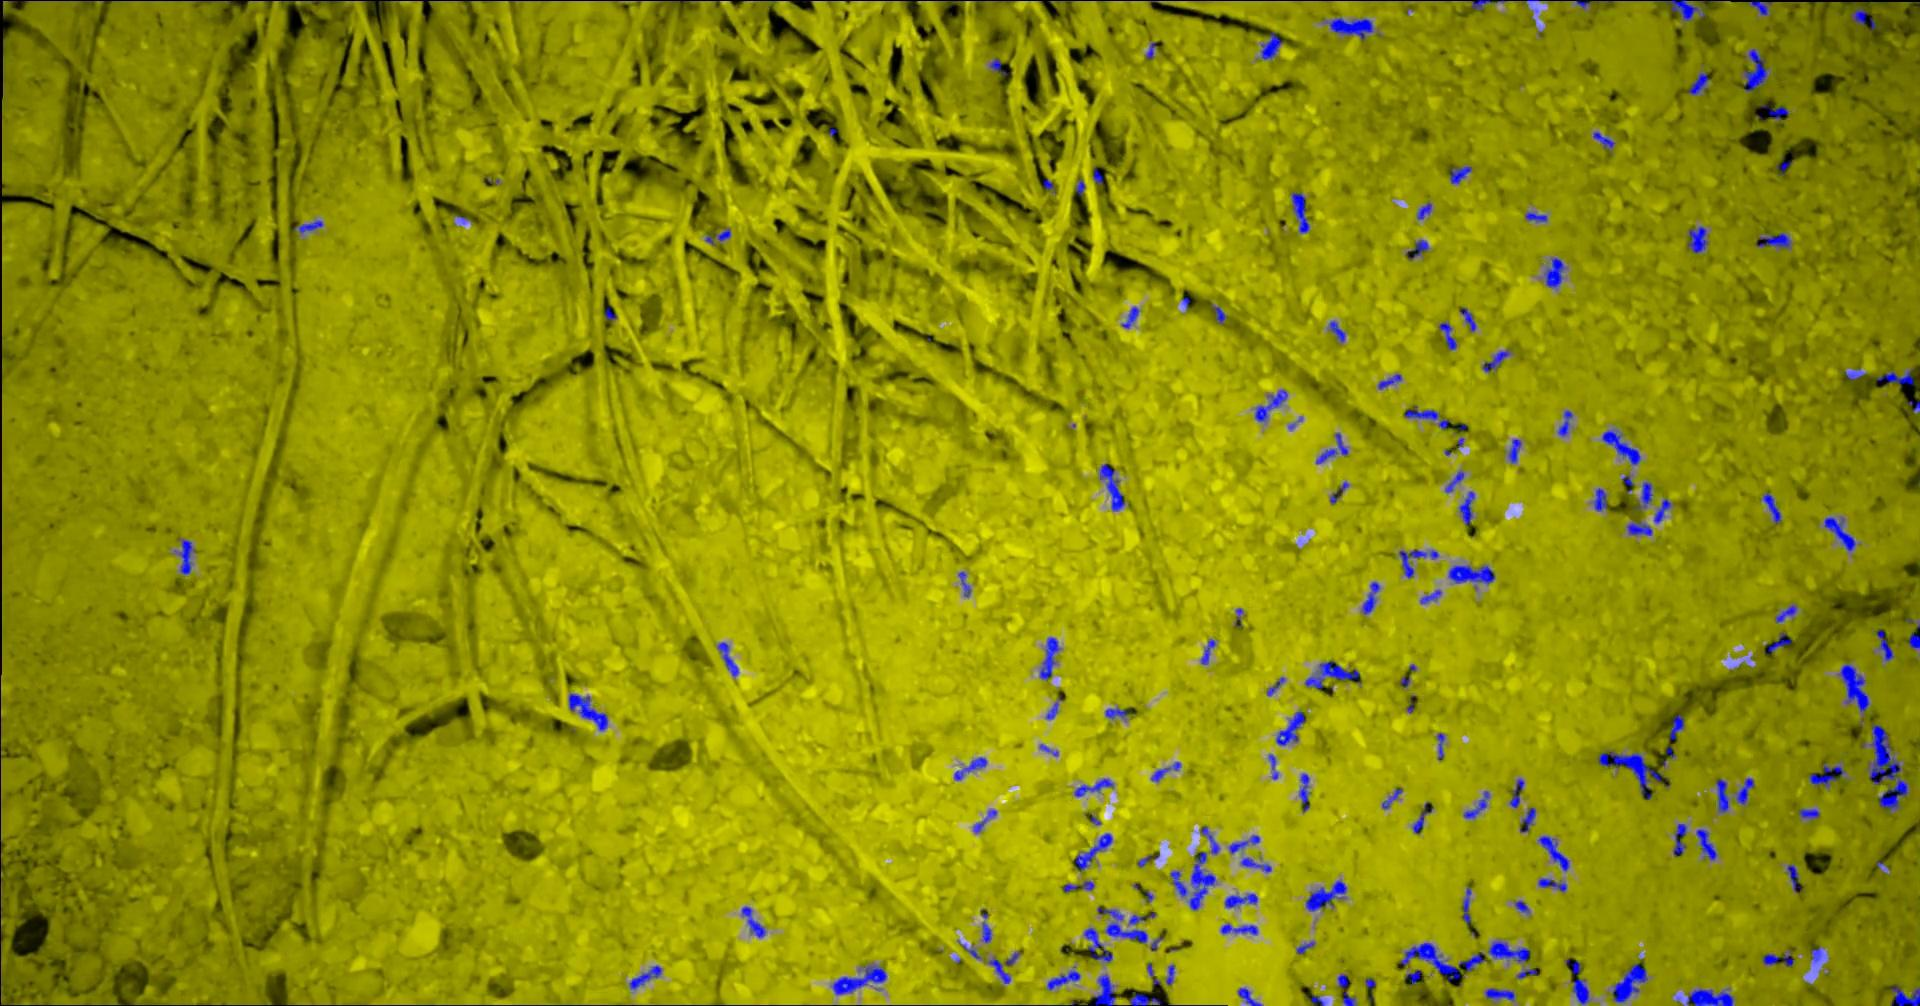ant: (1597, 751, 1669, 799), (1399, 942, 1460, 981), (1097, 906, 1147, 942), (832, 965, 886, 995), (1304, 661, 1360, 688), (1189, 851, 1215, 909), (1839, 662, 1869, 711), (568, 694, 607, 730), (1611, 962, 1647, 1002), (1074, 833, 1112, 870), (1601, 431, 1641, 464), (1305, 879, 1346, 911), (1098, 464, 1124, 511), (1537, 835, 1568, 871), (1398, 549, 1437, 577), (1742, 48, 1768, 91), (1823, 516, 1855, 550), (1403, 405, 1448, 429), (1255, 389, 1288, 420), (987, 951, 1020, 983), (1655, 0, 1705, 20), (1316, 432, 1347, 464), (1275, 711, 1304, 746), (1330, 17, 1371, 39), (1083, 927, 1111, 962), (1039, 636, 1059, 680), (1808, 762, 1844, 786), (1487, 941, 1529, 962), (1448, 565, 1495, 583), (629, 965, 662, 989), (1686, 988, 1733, 1005), (952, 757, 985, 780), (1046, 967, 1079, 989), (742, 906, 764, 937), (1291, 192, 1309, 232), (1463, 791, 1490, 818), (717, 641, 738, 676), (1074, 779, 1112, 796), (1412, 801, 1432, 833), (1260, 30, 1283, 58), (178, 539, 196, 574), (1695, 829, 1717, 859), (1544, 257, 1564, 287), (1093, 974, 1114, 1005), (1763, 492, 1782, 523), (1150, 761, 1180, 781), (1890, 984, 1919, 1005), (1876, 627, 1893, 661), (1228, 835, 1258, 854), (1876, 370, 1912, 385), (1850, 8, 1876, 29), (1458, 492, 1474, 525), (1363, 580, 1379, 614), (1755, 232, 1790, 248), (1482, 351, 1509, 371), (1437, 321, 1457, 349), (1633, 481, 1652, 509), (973, 809, 996, 832), (1688, 226, 1707, 253), (1201, 826, 1219, 854), (1592, 131, 1615, 152), (1404, 239, 1429, 259), (1239, 857, 1271, 873), (1459, 951, 1484, 970), (1735, 777, 1752, 804), (1571, 978, 1589, 1005), (1672, 823, 1686, 856), (1224, 893, 1257, 907), (1761, 953, 1794, 967), (1237, 987, 1262, 1005), (703, 227, 730, 244), (1688, 72, 1708, 94), (1768, 633, 1790, 652), (1170, 871, 1187, 895), (1761, 104, 1789, 119), (1509, 779, 1524, 807), (1785, 864, 1801, 892), (1716, 779, 1728, 812), (1519, 807, 1535, 832), (1382, 788, 1402, 808), (1444, 470, 1463, 492), (1330, 481, 1349, 503), (1537, 876, 1566, 890), (1200, 638, 1215, 664), (1653, 498, 1670, 522), (1557, 410, 1572, 436), (1128, 993, 1161, 1005), (1299, 774, 1309, 810), (1220, 923, 1257, 934), (1669, 714, 1683, 741), (293, 220, 323, 232), (1746, 0, 1770, 15), (1460, 307, 1476, 332), (1377, 373, 1401, 389), (1592, 486, 1608, 511), (1062, 880, 1093, 892), (1775, 605, 1796, 622), (1449, 166, 1470, 183), (1121, 306, 1138, 328), (1045, 697, 1062, 719), (1627, 521, 1652, 535), (980, 908, 990, 942), (1462, 887, 1470, 925), (1507, 439, 1521, 464), (1484, 988, 1514, 1000), (1128, 912, 1156, 923), (989, 57, 1007, 75), (1266, 677, 1284, 695), (1328, 320, 1343, 340), (957, 572, 970, 596), (1420, 589, 1441, 603), (1575, 0, 1613, 8), (1211, 304, 1225, 323), (1524, 211, 1547, 222), (1416, 202, 1431, 218), (1564, 958, 1580, 974), (1105, 708, 1128, 718), (1404, 969, 1420, 984), (1844, 368, 1865, 379), (1269, 754, 1277, 779), (1436, 732, 1444, 760), (1798, 808, 1818, 818), (1164, 964, 1175, 984), (1516, 968, 1537, 978), (1297, 941, 1314, 953), (1341, 991, 1355, 1005), (1470, 0, 1490, 10), (1043, 178, 1055, 193), (1514, 901, 1529, 913), (1810, 946, 1822, 962), (1092, 166, 1103, 183), (1076, 178, 1084, 196), (1909, 633, 1919, 648), (1310, 995, 1324, 1005), (1337, 974, 1349, 986)
